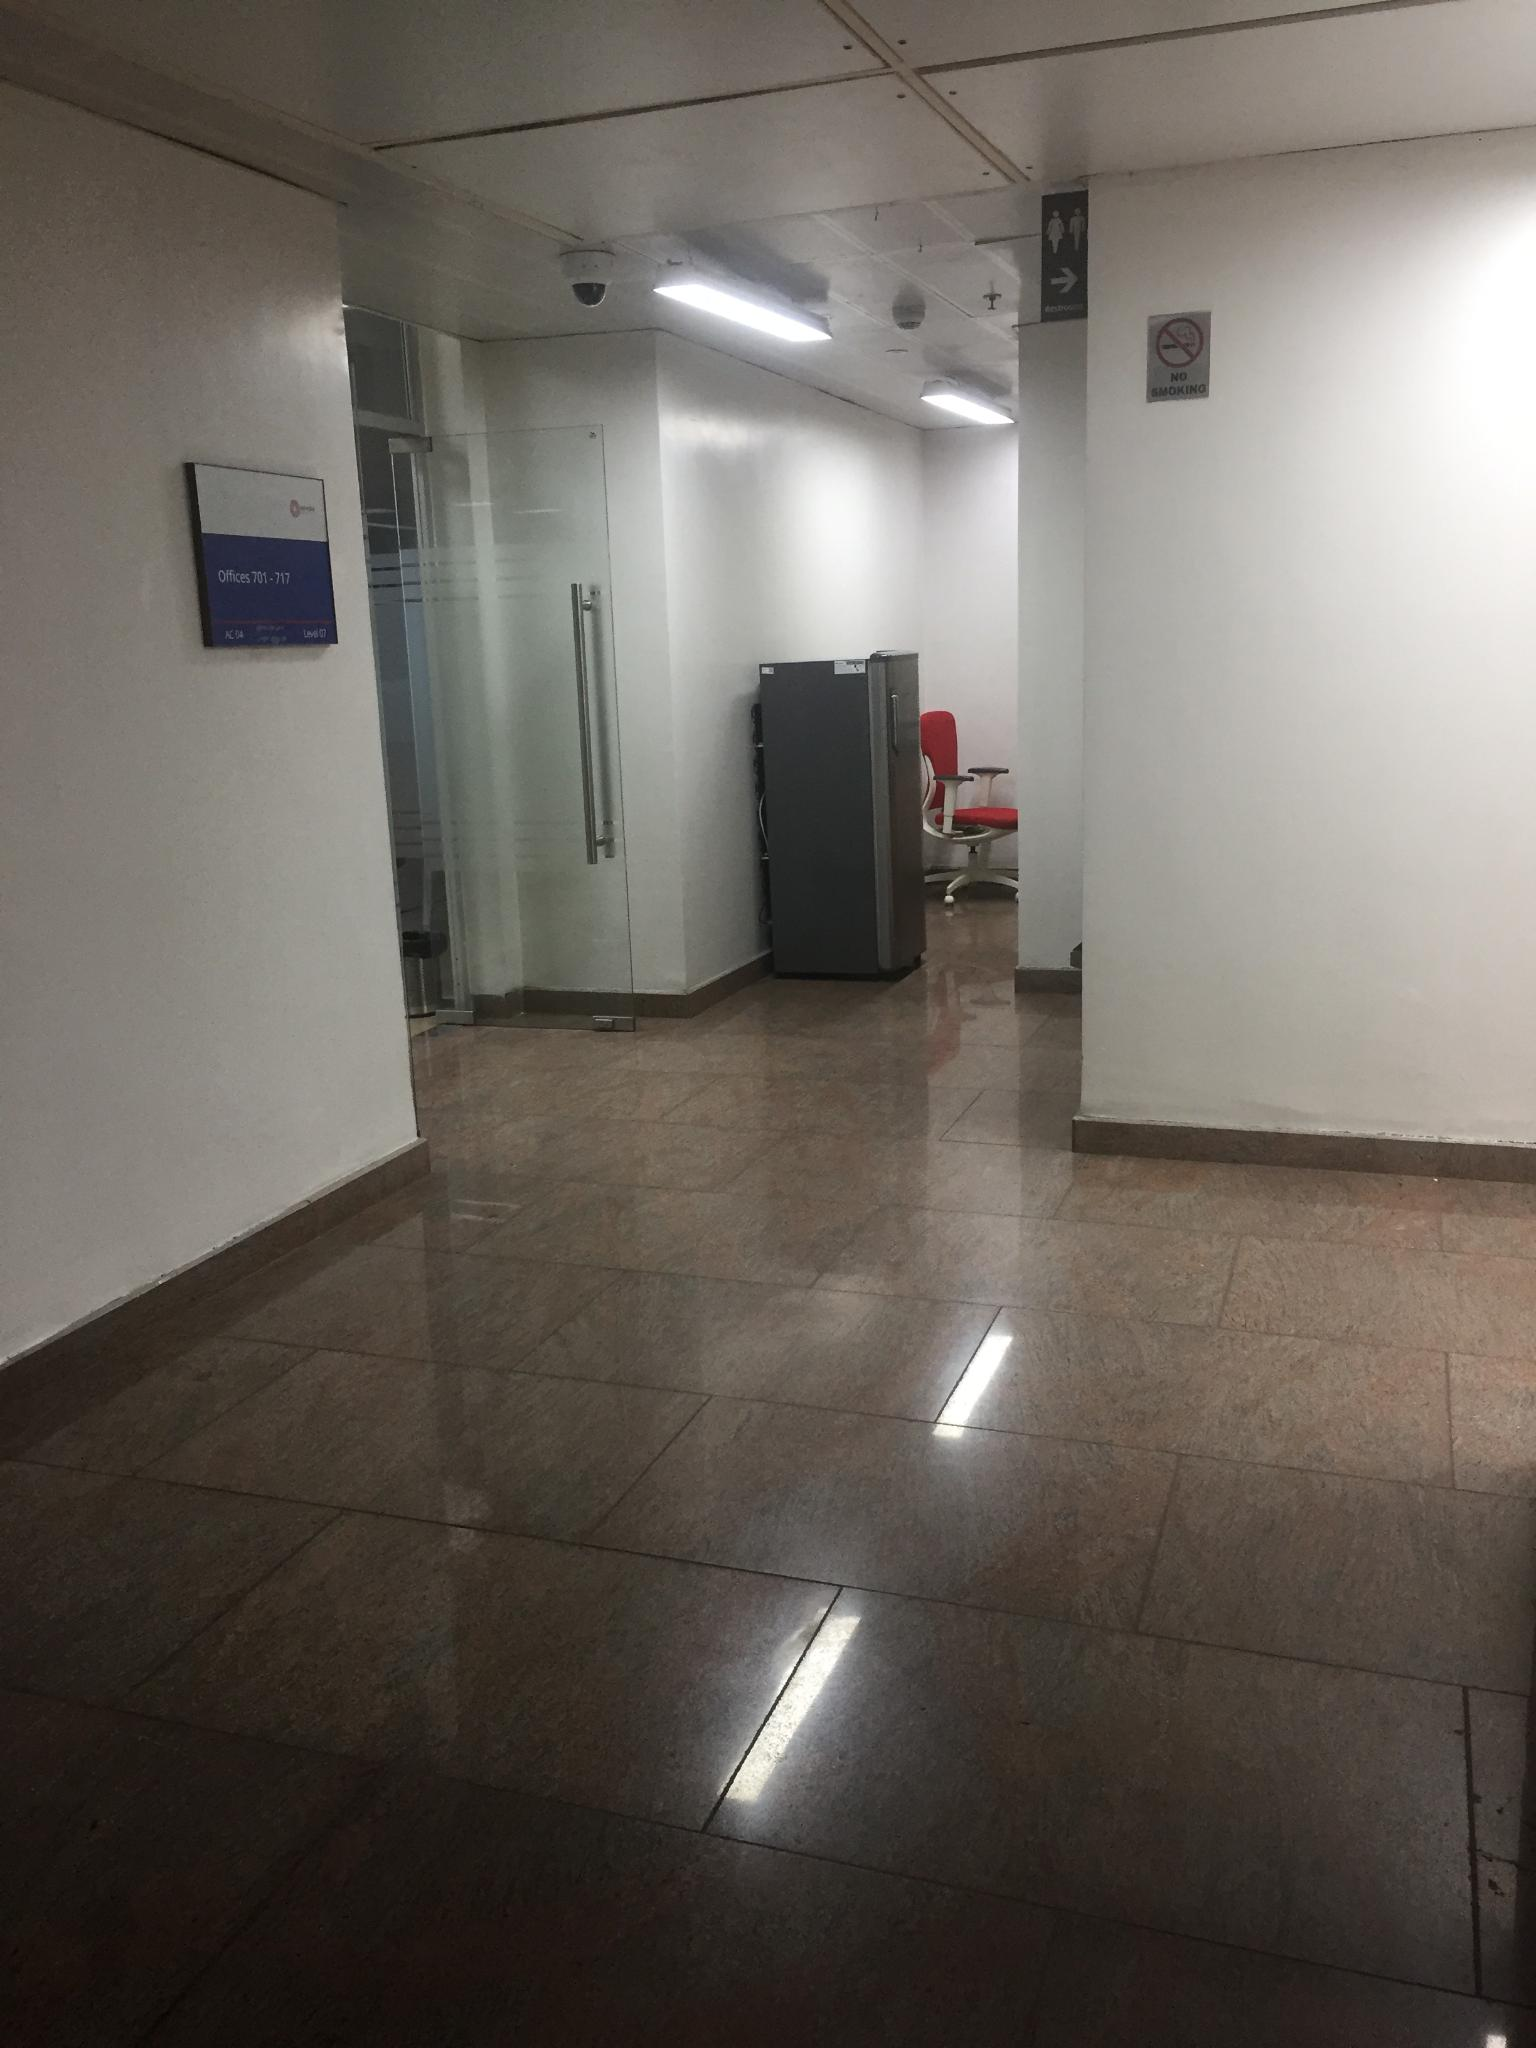chair: (920, 708, 1020, 903)
